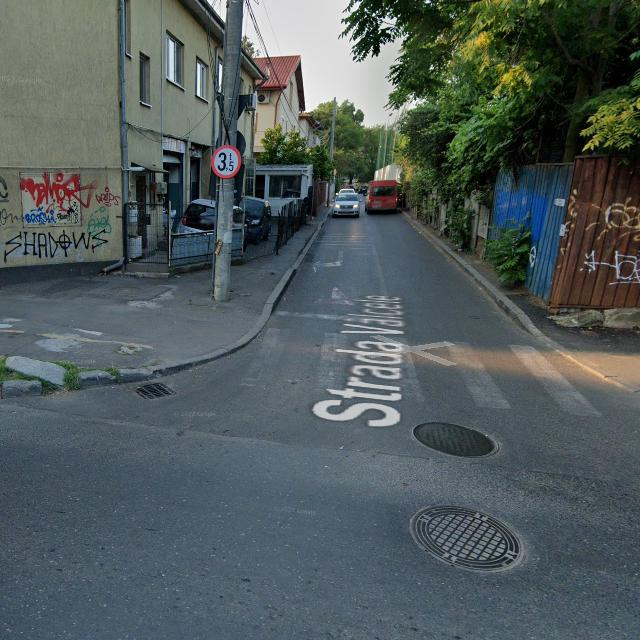forb_weight_over_3.5t: (212, 145, 240, 178)
